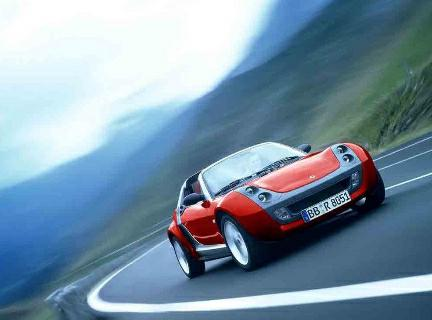smart-roadster: (166, 141, 386, 274)
